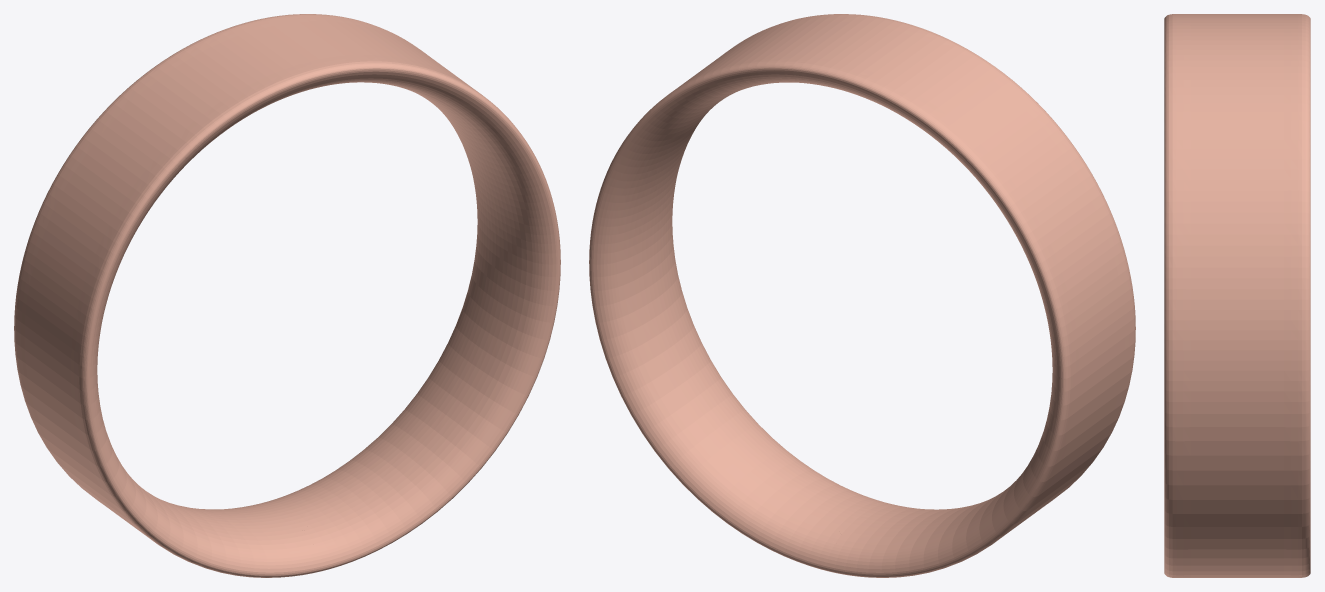
The model's file is ring.glb.
The picture shows the model from 3 angles, left to right: view 1: azimuth 30°, elevation 25°; view 2: azimuth 150°, elevation 25°; view 3: azimuth 270°, elevation 25°; orthographic projection.
Bounding box in the file's own units: 0.023 × 0.023 × 0.00598.
